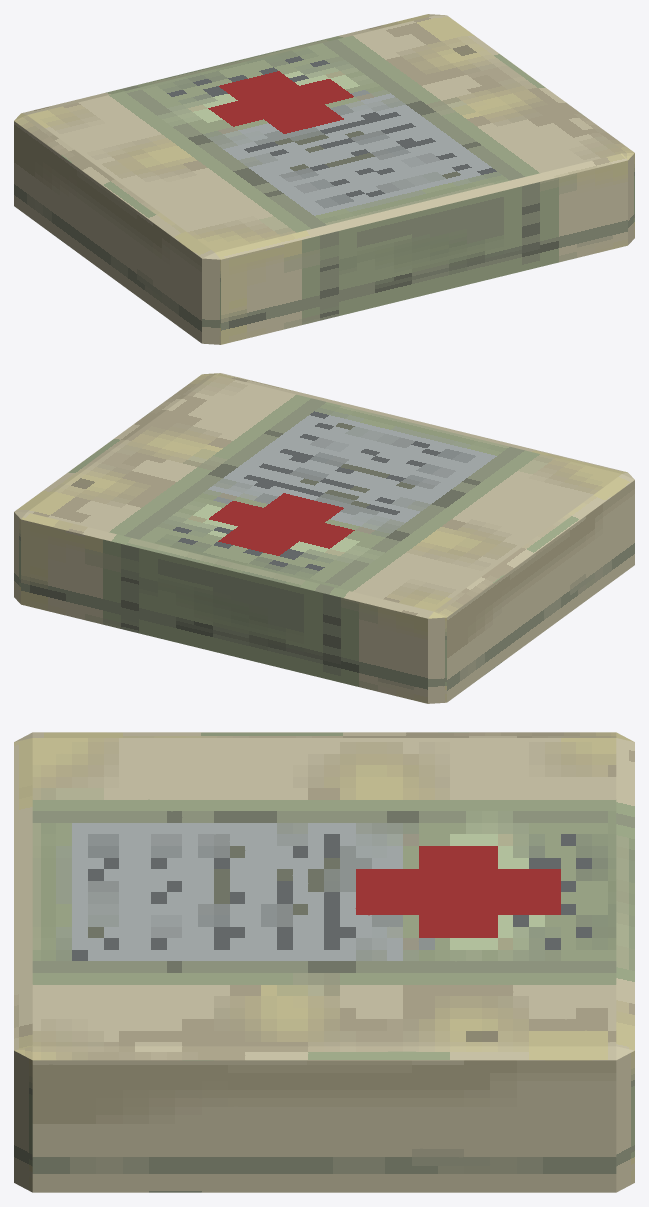
File: FirstAidKit.glb
3 views of the same model, one above another, from view 1: azimuth 30°, elevation 25°; view 2: azimuth 150°, elevation 25°; view 3: azimuth 270°, elevation 25° (orthographic). The views are drawn at different scales.
Parts seen in each view (by area): view 1: First Aid Kit; view 2: First Aid Kit; view 3: First Aid Kit.
Boxes of the visible parts, x1=… form: First Aid Kit: x1=14, y1=14, x2=634, y2=344; First Aid Kit: x1=14, y1=373, x2=634, y2=703; First Aid Kit: x1=14, y1=732, x2=634, y2=1192.
Bounding box in the file's own units: 0.1524 × 0.0305 × 0.1219.
1 material, 1 textured.
